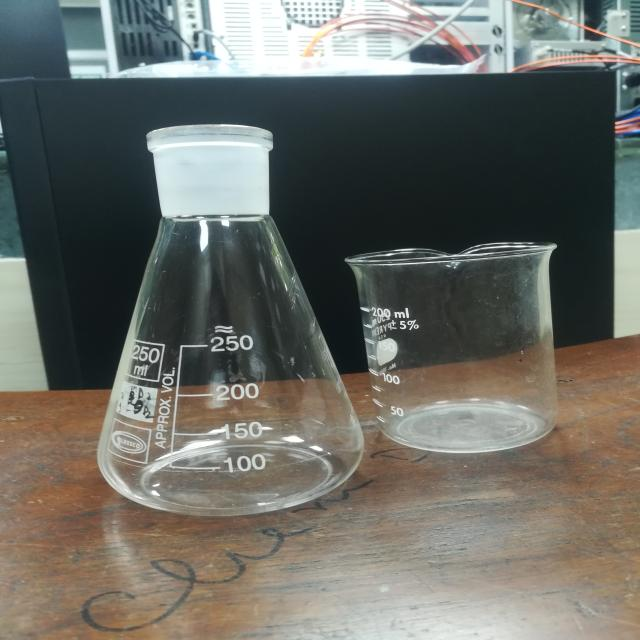Beaker: (338, 183, 604, 457)
Conical_Flask: (74, 97, 376, 527)
